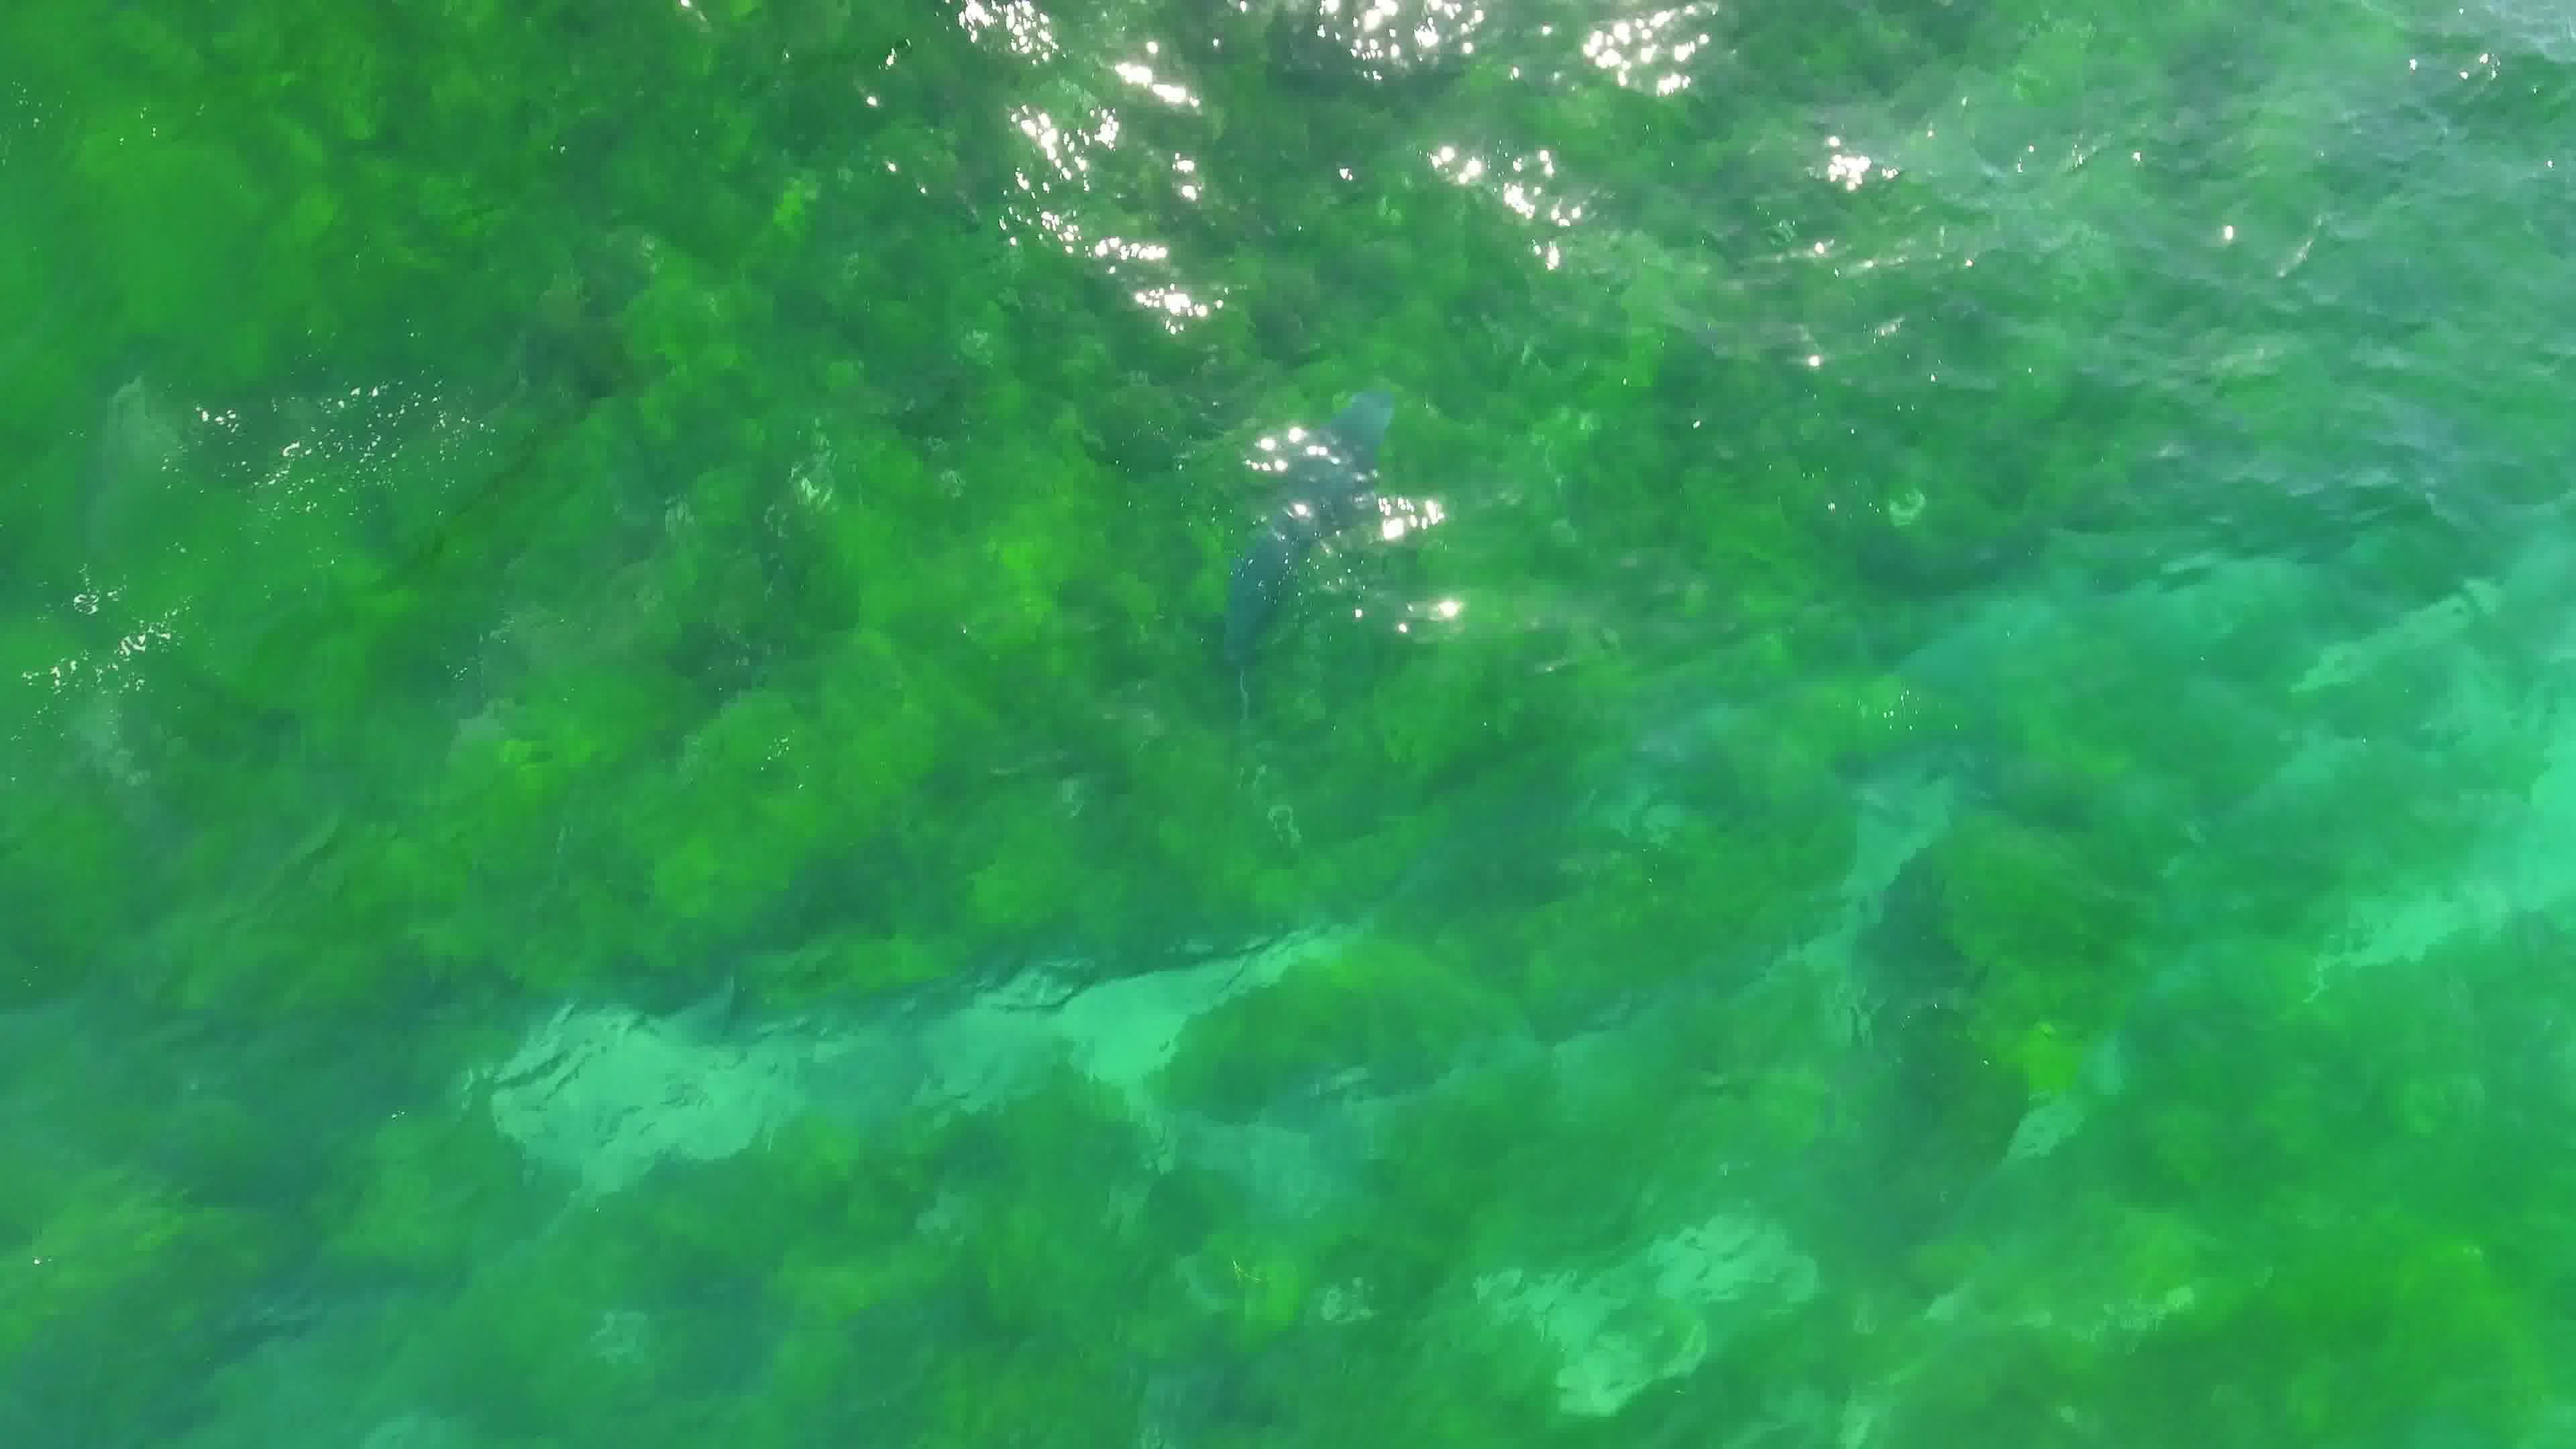shark: (1207, 380, 1396, 686)
